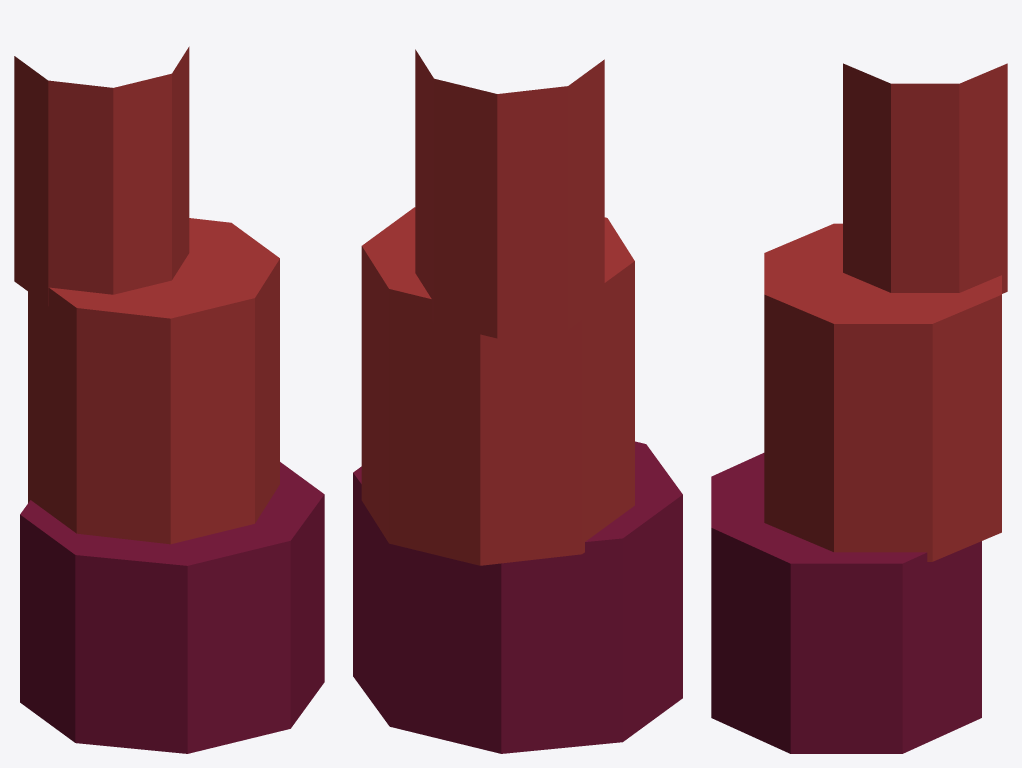
The model's file is golem_arml.glb.
3 renders of one model, left to right at view 1: azimuth 30°, elevation 25°; view 2: azimuth 150°, elevation 25°; view 3: azimuth 270°, elevation 25°, orthographic. The views are drawn at different scales.
Visible parts, largest first — view 1: ArmL; view 2: ArmL; view 3: ArmL.
Boxes of the visible parts, bbox=[...] form: ArmL: bbox=[14, 46, 324, 753]; ArmL: bbox=[353, 49, 682, 753]; ArmL: bbox=[711, 63, 1007, 753].
Size of the model in its own units: 0.5543 by 1.32 by 0.5648.
